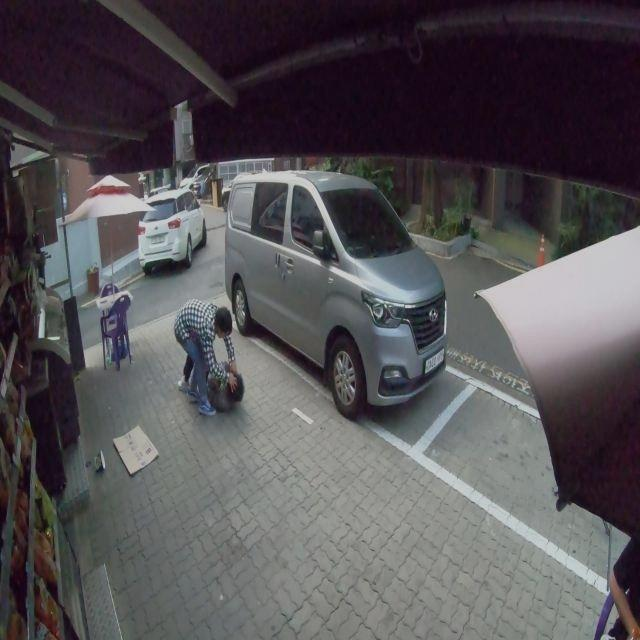fight: (173, 296, 244, 415)
